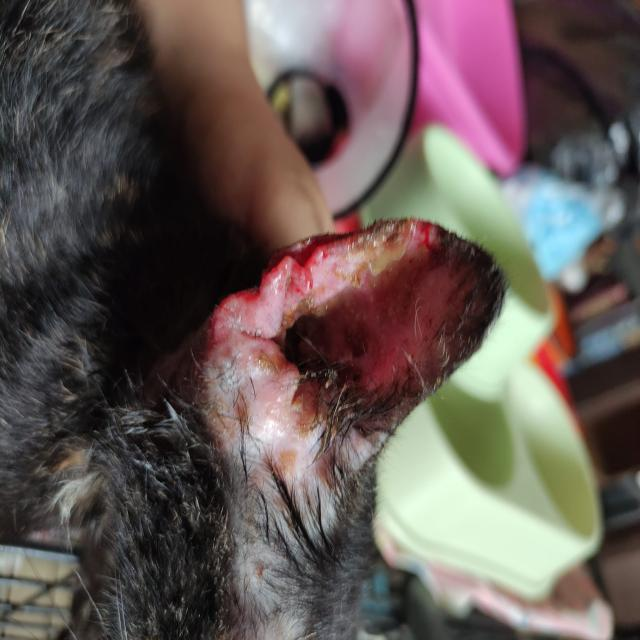Ringworm: (203, 231, 398, 318)
